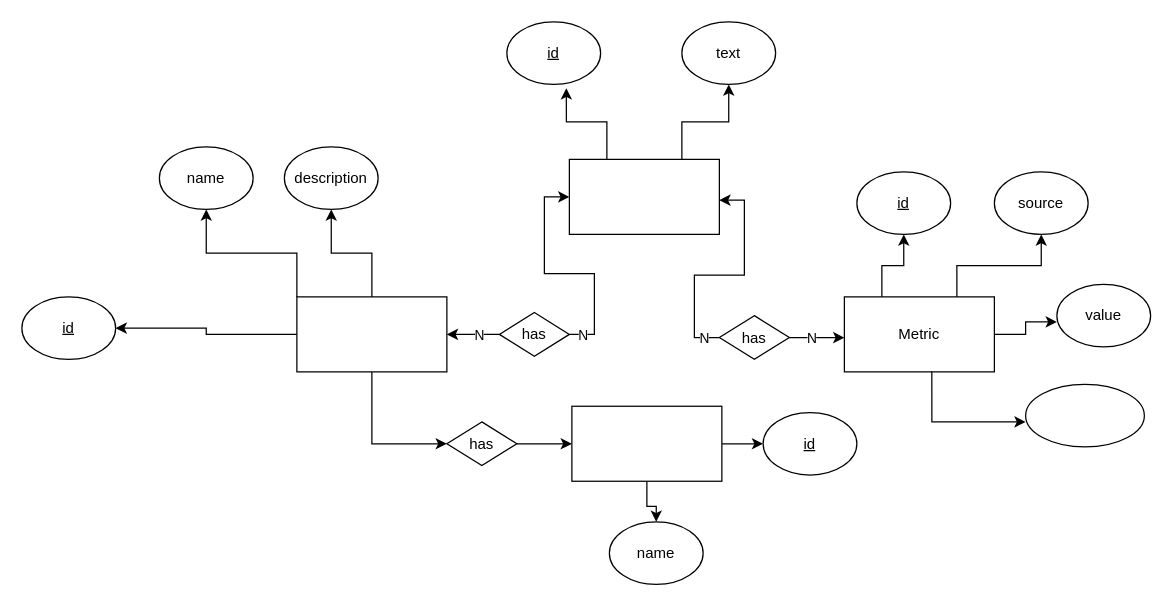
Some shapes in this 1173 by 606 pixel diagram are drawn without their labels. The shapes that lost their labels are listed below. From the top down, each one's centre as x and y in pixels, then its label:
At [643,196]: "Question".
At [371,334]: "Goal".
At [1084,415]: "unit_messure".
At [646,443]: "Project".
